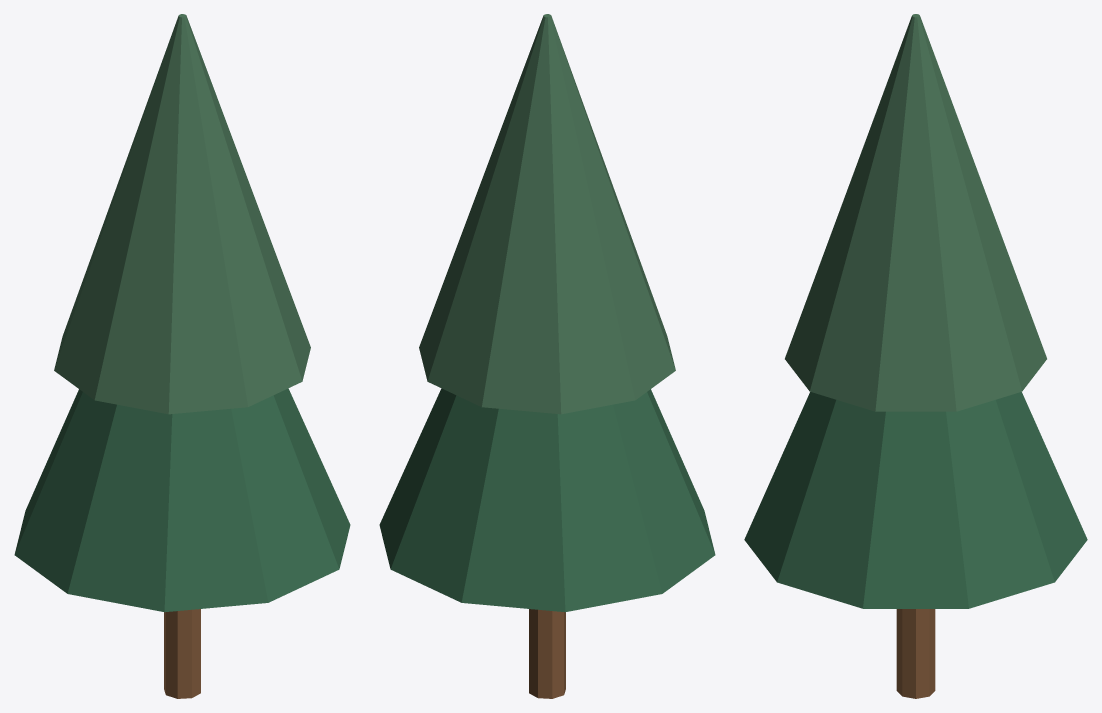
Rendered from norway-spruce_lod0.glb.
The picture shows the model from 3 angles, left to right: view 1: azimuth 30°, elevation 25°; view 2: azimuth 150°, elevation 25°; view 3: azimuth 270°, elevation 25°; orthographic projection.
Visible parts, largest first — view 1: RF_Tree_Crown_High, RF_Tree_Crown_Low, RF_Tree_Trunk; view 2: RF_Tree_Crown_High, RF_Tree_Crown_Low, RF_Tree_Trunk; view 3: RF_Tree_Crown_High, RF_Tree_Crown_Low, RF_Tree_Trunk.
Boxes of the visible parts, x1,y1,x2,y2 form: RF_Tree_Crown_High: [54, 14, 310, 414]; RF_Tree_Crown_Low: [14, 388, 350, 612]; RF_Tree_Trunk: [164, 609, 200, 698]; RF_Tree_Crown_High: [419, 14, 675, 414]; RF_Tree_Crown_Low: [379, 388, 715, 612]; RF_Tree_Trunk: [529, 609, 565, 698]; RF_Tree_Crown_High: [785, 14, 1046, 411]; RF_Tree_Crown_Low: [744, 392, 1087, 608]; RF_Tree_Trunk: [896, 609, 935, 698].
Bounding box in the file's own units: 6.47 × 14.75 × 6.8.
